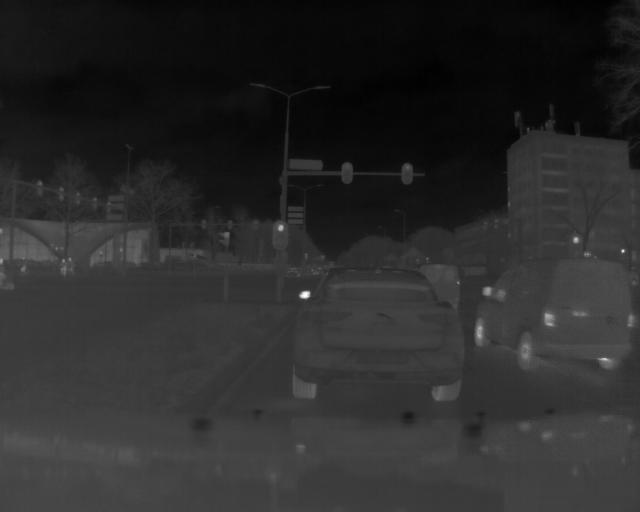car: (292, 271, 465, 401), (474, 259, 631, 374), (416, 264, 468, 312)
person: (56, 255, 67, 277)
